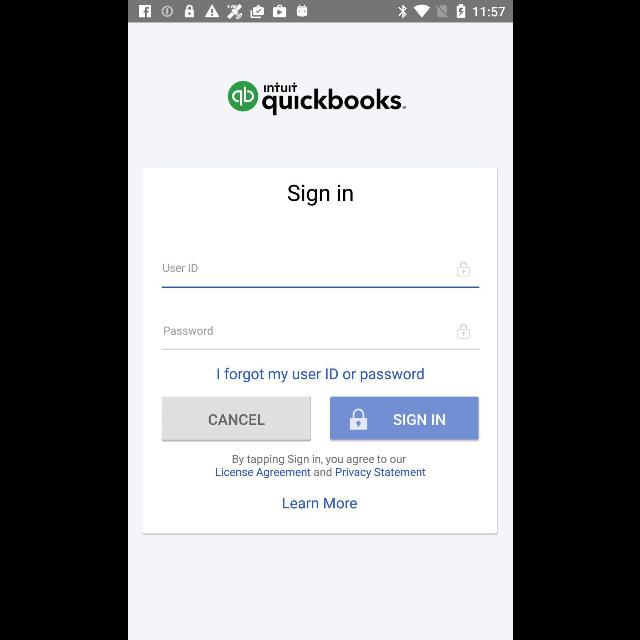icon: (456, 324, 469, 338), (456, 262, 469, 276)
image: (227, 80, 405, 116)
input: (161, 324, 479, 351), (161, 262, 479, 288)
panel: (142, 168, 498, 536)
text: (215, 455, 425, 479), (217, 368, 423, 382), (286, 184, 352, 206), (282, 498, 356, 508), (164, 326, 212, 336), (163, 264, 197, 272)
textbutton: (329, 396, 478, 442), (162, 396, 310, 442)
uppertaskbar: (128, 1, 512, 23)
